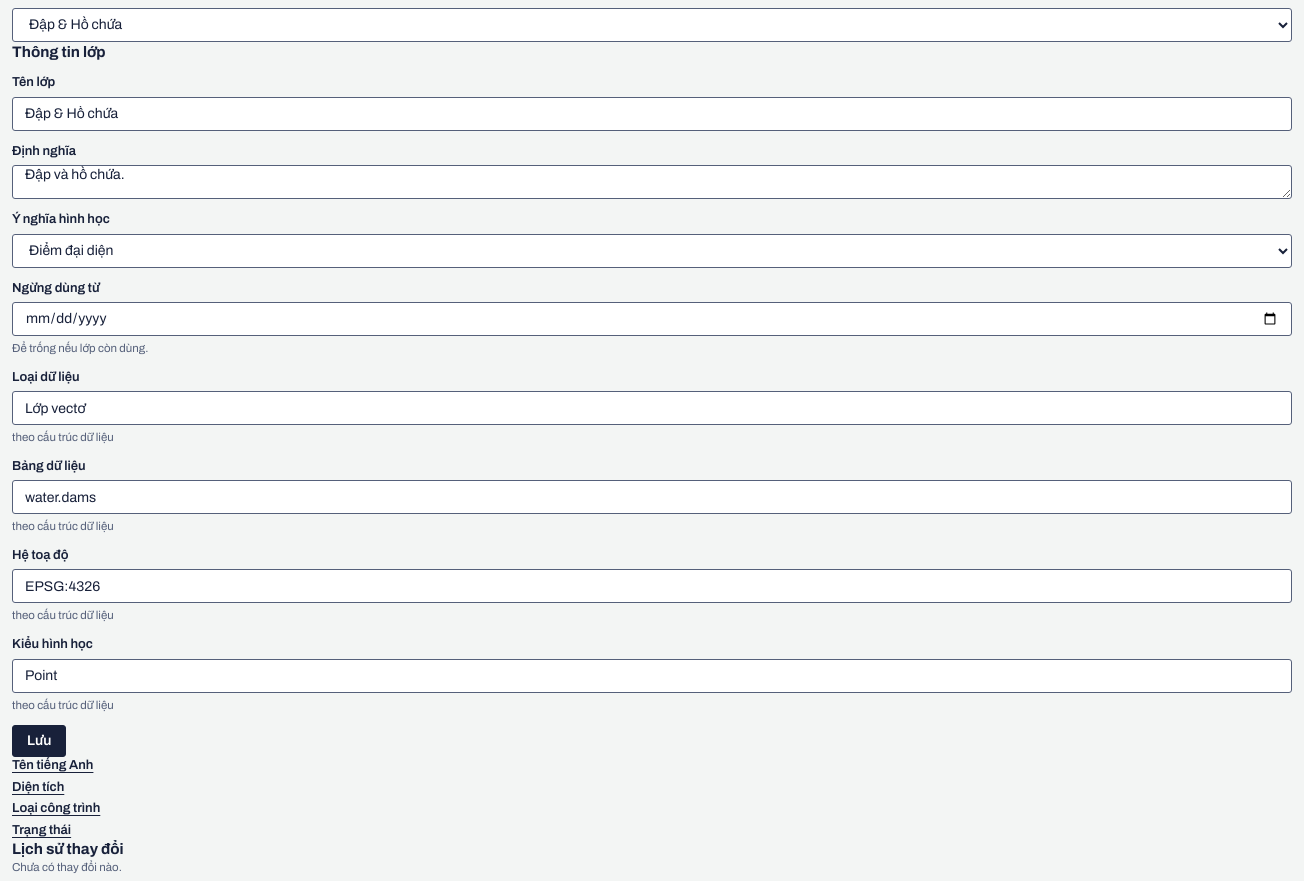
it: dictionary editor › a save keeps what is typed in the field it did not send
Click the button "Tên tiếng Anh" at (53, 765), box [12,758,93,772]
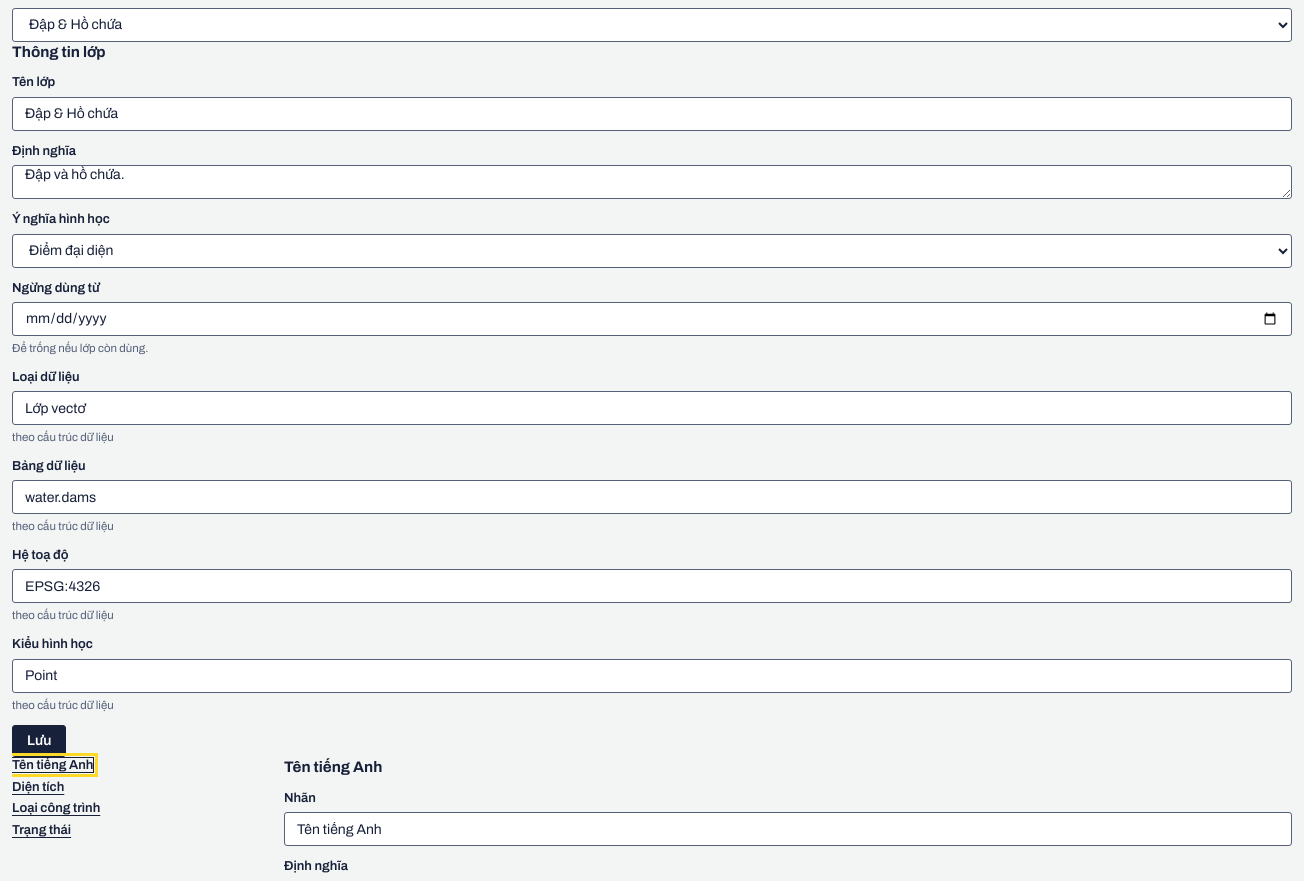
Type "!" into the field labelled "Nhãn" at (788, 829), box [284,812,1292,846]
(page scrolled)
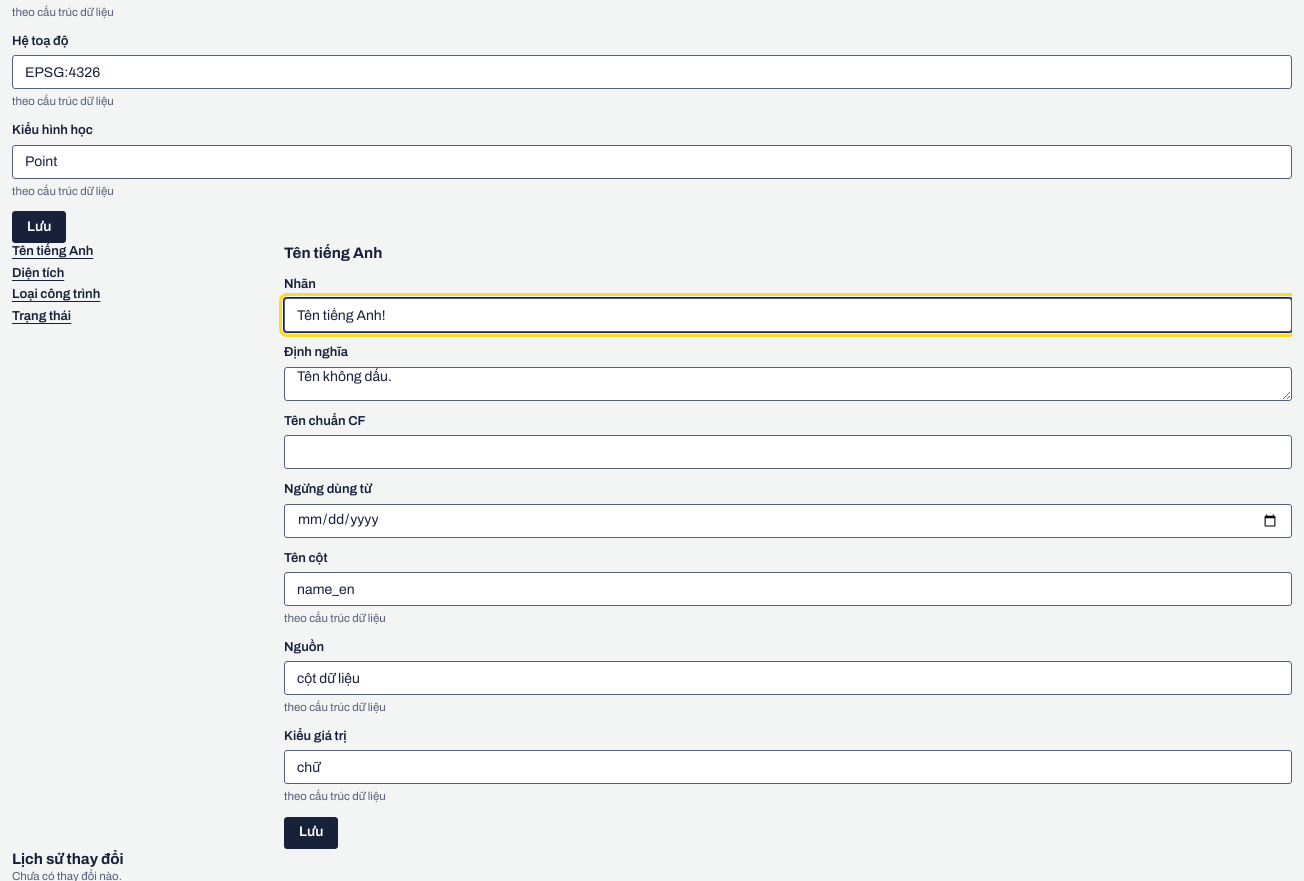
Click the button "Lưu" below "Kiểu giá trị" at (311, 833), box [284,817,338,849]
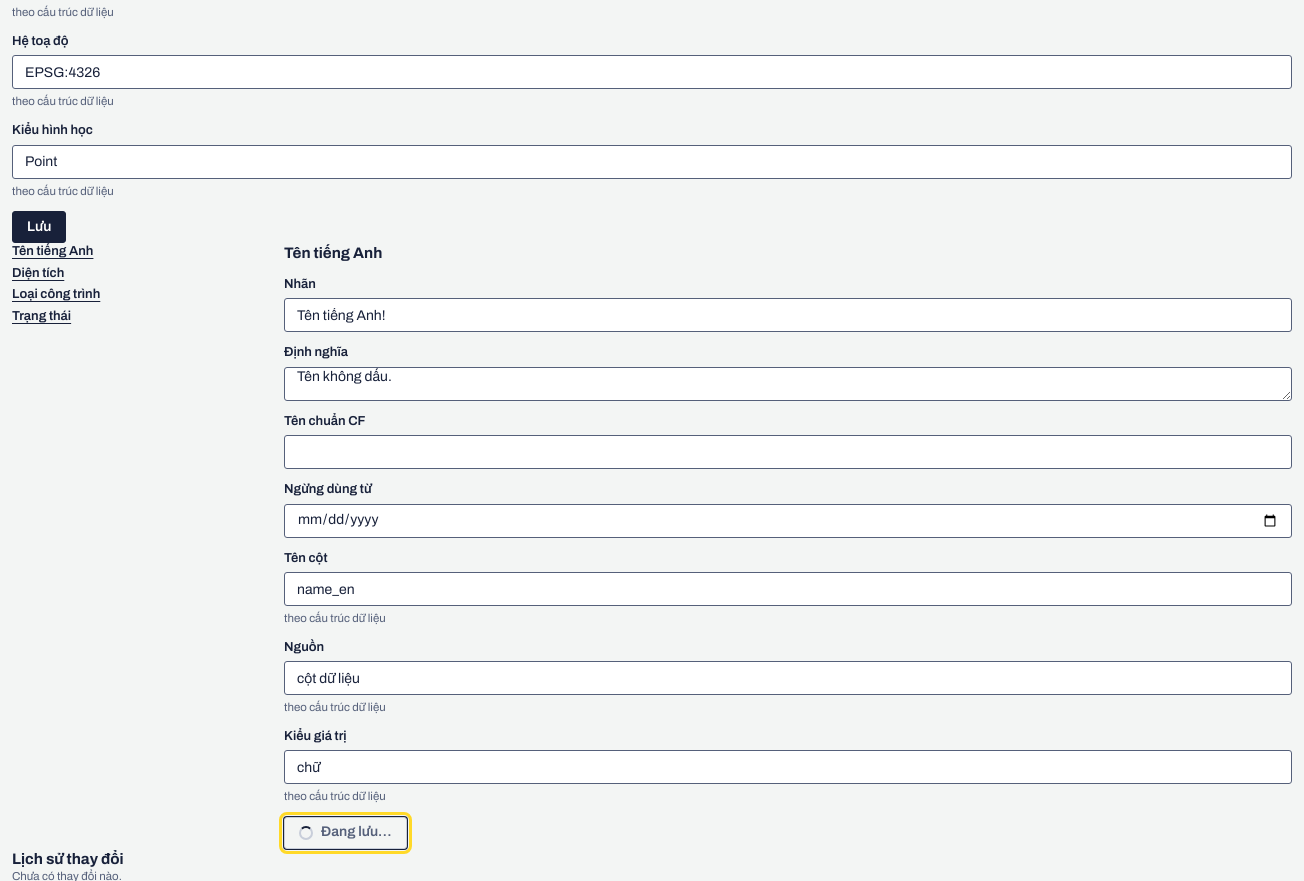
// Typed while the save is in flight: not part of it.
Type " Sau." into the text box labelled "Định nghĩa" at (788, 384), box [284,367,1292,401]
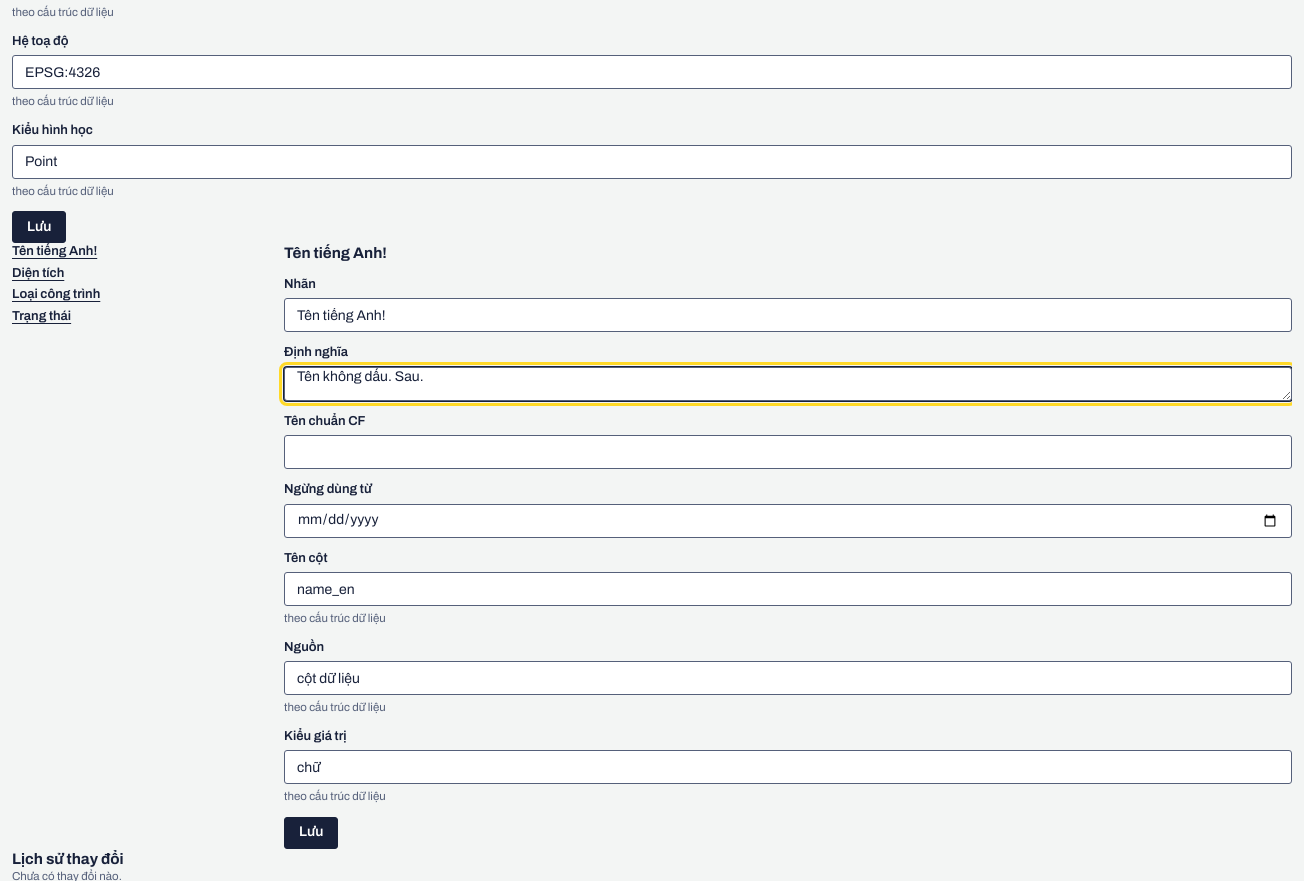
Result: the field labelled "Nhãn" holds "Tên tiếng Anh!" at [284,298,1292,332]
Result: the text box labelled "Định nghĩa" holds "Tên không dấu. Sau." at [284,367,1292,401]
